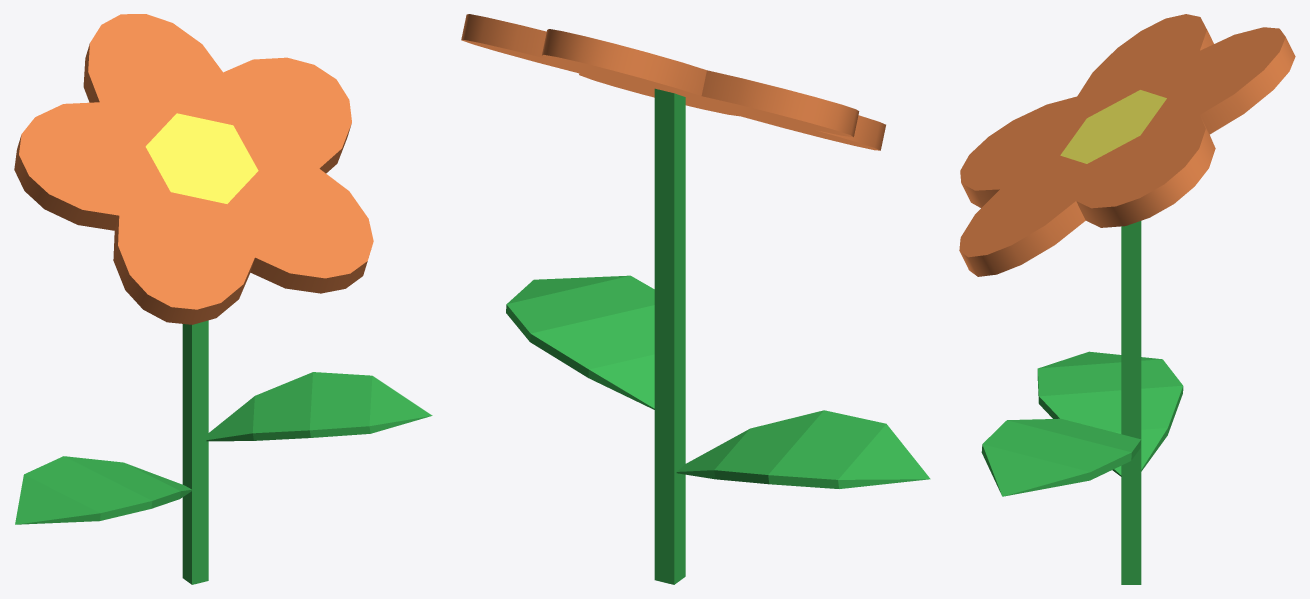
The model's file is Flower_1x_Orange.FBX.
3 views of the same model, side by side, from view 1: azimuth 30°, elevation 25°; view 2: azimuth 150°, elevation 25°; view 3: azimuth 270°, elevation 25° (orthographic). The views are drawn at different scales.
Visible parts, largest first — view 1: Flower_1x_Orange; view 2: Flower_1x_Orange; view 3: Flower_1x_Orange.
Part boxes in pixels (bbox=[...]): Flower_1x_Orange: bbox=[14, 14, 432, 584]; Flower_1x_Orange: bbox=[461, 14, 930, 584]; Flower_1x_Orange: bbox=[959, 14, 1295, 584].
Bounding box in the file's own units: 30.92 × 40.17 × 22.55.
